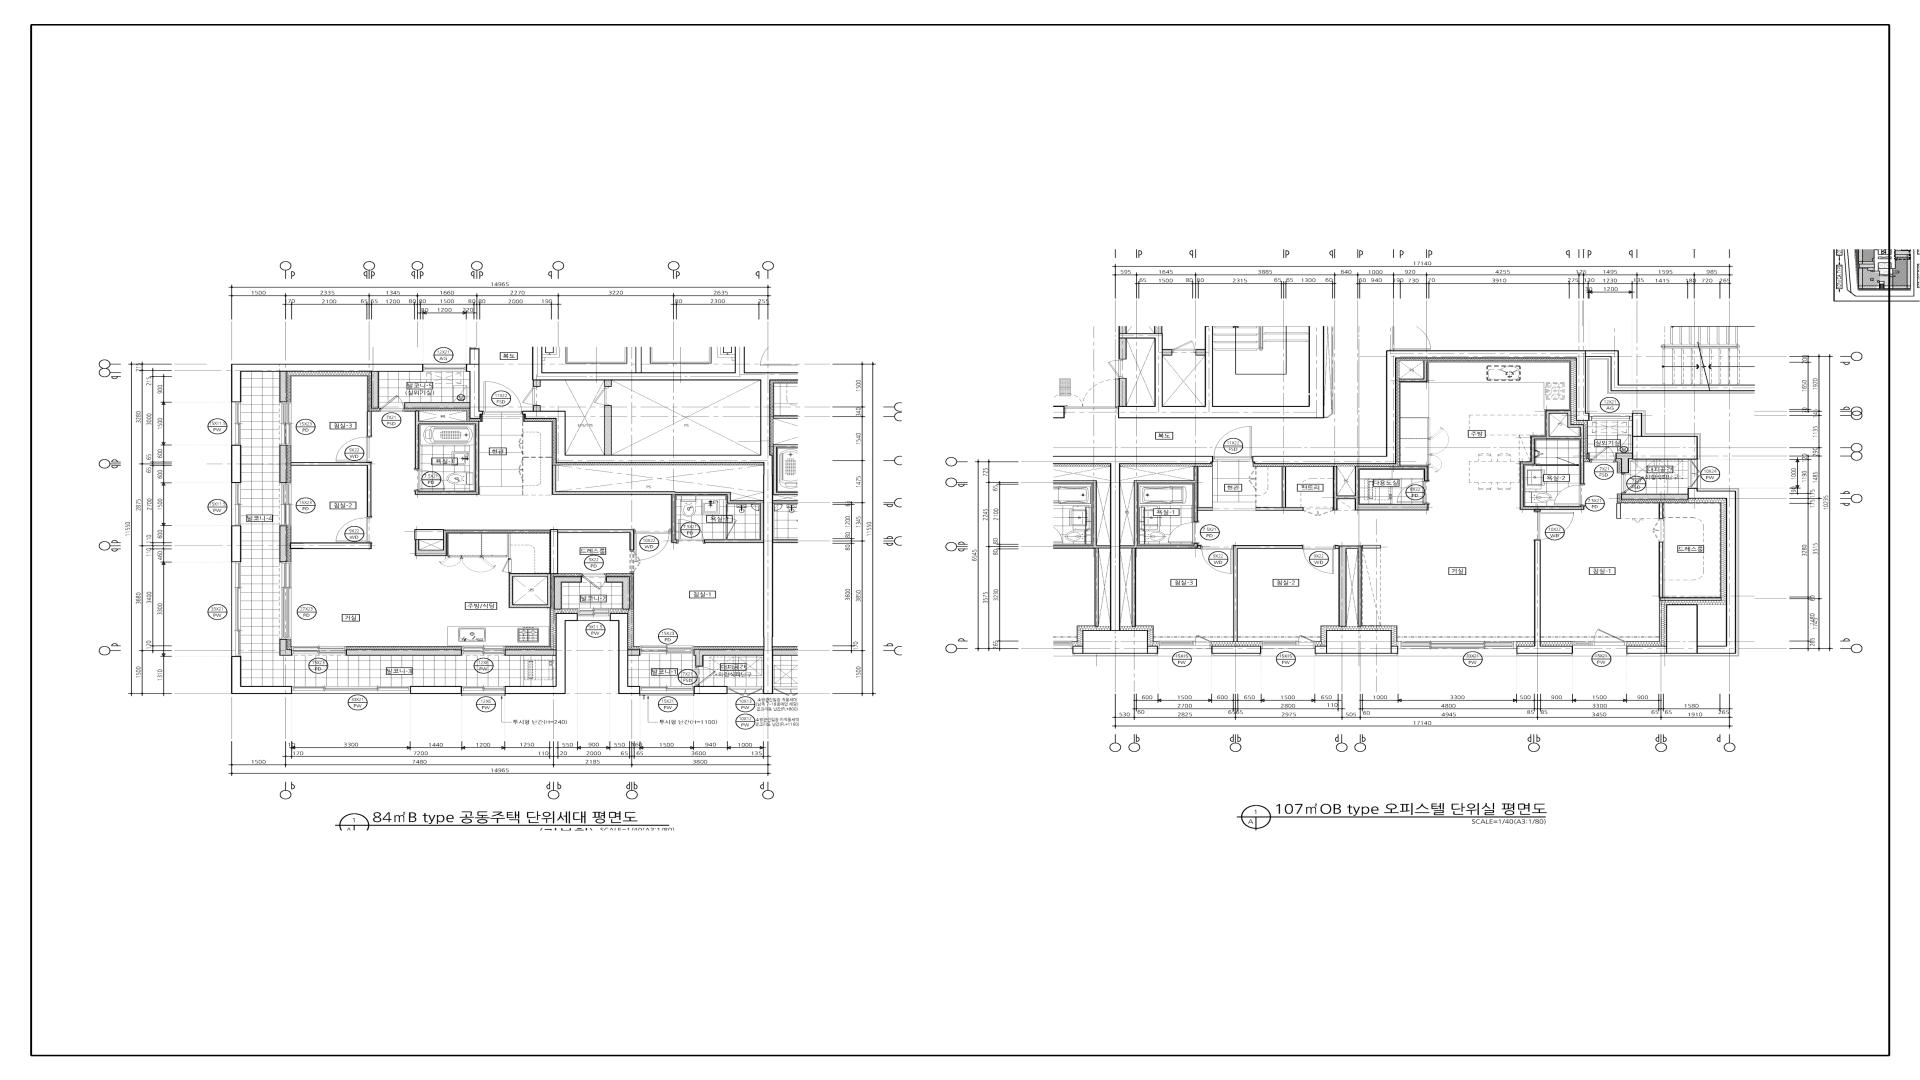door: (1052, 378, 1118, 413), (1213, 426, 1253, 462), (483, 381, 522, 414), (1534, 510, 1575, 539), (634, 531, 671, 562), (1199, 546, 1233, 576), (1303, 545, 1338, 574), (336, 436, 372, 463), (335, 517, 372, 542), (1396, 481, 1429, 504), (1553, 484, 1585, 506), (1166, 522, 1199, 543), (414, 469, 446, 491), (678, 520, 704, 543), (725, 504, 738, 539), (695, 666, 716, 686), (582, 574, 605, 591), (380, 394, 404, 411), (1590, 447, 1615, 463), (1622, 473, 1642, 493), (1105, 359, 1124, 378), (1650, 520, 1664, 542), (1304, 506, 1333, 517), (593, 386, 609, 405), (1172, 340, 1196, 352), (522, 388, 538, 405), (630, 550, 641, 574), (502, 558, 512, 574)
wall: (524, 347, 773, 694), (1253, 351, 1755, 464), (1110, 456, 1213, 654), (1118, 326, 1324, 418), (1626, 488, 1737, 654), (553, 465, 764, 543), (1121, 467, 1197, 626), (231, 364, 423, 402), (1233, 546, 1303, 641), (1516, 541, 1573, 654), (1520, 410, 1584, 510), (505, 613, 578, 694), (415, 411, 480, 495), (291, 463, 372, 517), (1333, 465, 1428, 510), (415, 530, 550, 558), (1631, 413, 1698, 460), (609, 613, 641, 694), (231, 657, 291, 694), (1255, 467, 1304, 510), (1315, 630, 1398, 654), (1338, 546, 1362, 626), (558, 530, 634, 550), (509, 574, 551, 608), (465, 348, 483, 419), (694, 650, 764, 666), (513, 576, 549, 604), (554, 576, 582, 609), (607, 576, 630, 609), (1549, 413, 1580, 436), (345, 650, 462, 655), (1622, 493, 1688, 500), (290, 543, 371, 549), (410, 686, 462, 694), (1212, 646, 1262, 654), (231, 446, 241, 483), (550, 529, 558, 574), (405, 402, 469, 407), (1615, 452, 1633, 472), (605, 405, 612, 455), (415, 529, 443, 541), (232, 526, 241, 562), (280, 446, 287, 483), (280, 526, 287, 562), (694, 686, 728, 694), (505, 650, 555, 655), (1659, 597, 1722, 601), (280, 372, 287, 402), (372, 372, 378, 407), (1659, 542, 1663, 597), (280, 640, 291, 655), (1120, 378, 1126, 406), (1118, 339, 1126, 359), (1052, 406, 1064, 418), (367, 411, 372, 436), (1659, 504, 1664, 518), (1163, 349, 1172, 356), (1196, 349, 1205, 356), (1617, 504, 1621, 518), (629, 650, 640, 655), (533, 380, 541, 386), (534, 405, 541, 411), (604, 381, 612, 386), (1199, 508, 1213, 510), (1588, 454, 1589, 459)
window: (1398, 641, 1516, 657), (1573, 626, 1627, 657), (1261, 633, 1315, 657), (1158, 634, 1212, 657), (293, 686, 410, 694), (280, 562, 291, 638), (232, 562, 241, 655), (641, 686, 694, 696), (280, 402, 291, 446), (280, 483, 291, 526), (293, 646, 345, 655), (231, 402, 241, 444), (578, 608, 611, 621), (641, 646, 694, 654), (232, 483, 241, 526), (462, 687, 505, 696), (462, 646, 505, 655), (728, 686, 764, 696), (1688, 460, 1701, 488), (423, 364, 465, 372), (1590, 414, 1631, 421)
